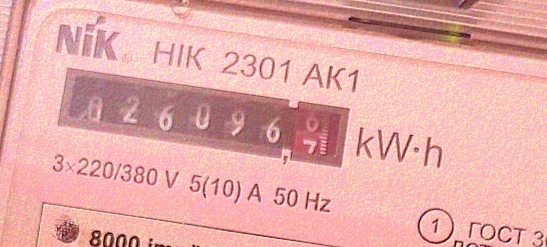0: (190, 97, 215, 135), (82, 90, 107, 124)
2: (118, 91, 144, 129)
6: (154, 98, 178, 136), (262, 111, 285, 146), (301, 106, 324, 136)
7: (299, 135, 319, 159)
9: (225, 106, 249, 140)
screen: (46, 56, 359, 180)
